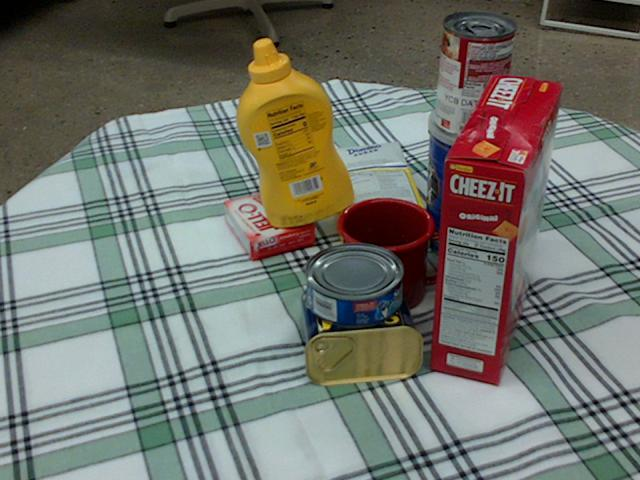cracker_box: (430, 75, 563, 384)
gelatin_box: (224, 189, 314, 262)
master_chef_can: (422, 98, 533, 264)
mug: (337, 199, 459, 315)
mustard_bottle: (235, 39, 352, 227)
potted_meat_can: (305, 272, 426, 383)
sugar_box: (320, 139, 428, 259)
tomato_soup_can: (434, 12, 514, 138)
tuna_fish_can: (305, 243, 403, 327)
